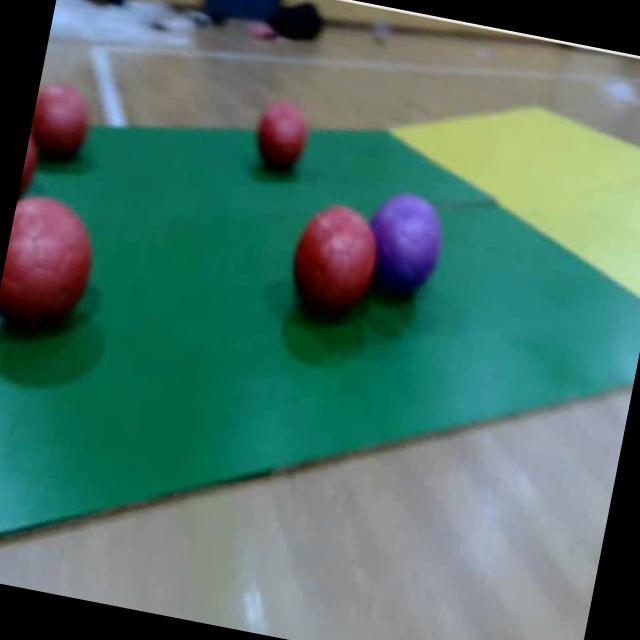purple_ball: (368, 188, 454, 310)
red_ball: (0, 189, 107, 346), (284, 202, 382, 324), (25, 78, 97, 172), (250, 99, 320, 194)
